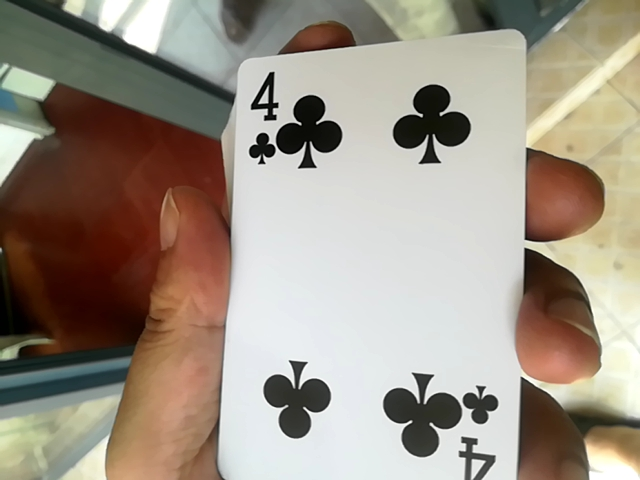mh 4: (206, 29, 552, 475)
